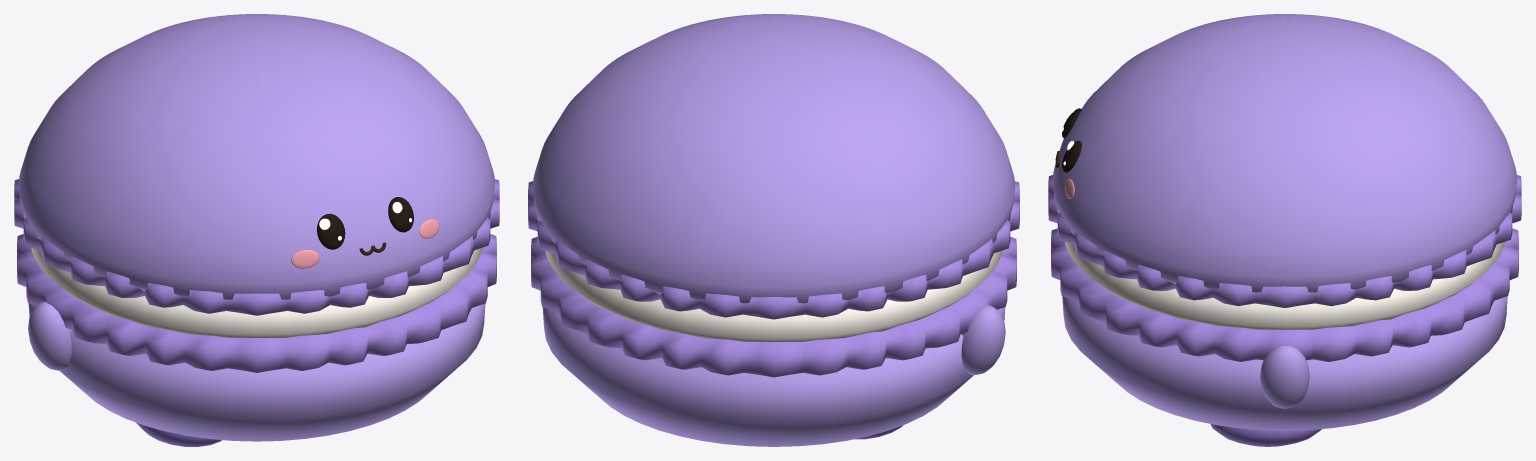
File: macaron.glb
3 renders of one model, left to right at view 1: azimuth 30°, elevation 25°; view 2: azimuth 150°, elevation 25°; view 3: azimuth 270°, elevation 25°, orthographic. The views are drawn at different scales.
Visible parts, largest first — view 1: macaron; view 2: macaron; view 3: macaron.
Part boxes in pixels (bbox=[...]): macaron: bbox=[14, 14, 499, 446]; macaron: bbox=[528, 14, 1019, 446]; macaron: bbox=[1048, 14, 1521, 446].
Bounding box in the file's own units: 0.0893 × 0.0699 × 0.0834.
